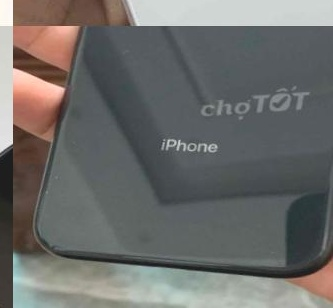scratch: (24, 165, 69, 198), (263, 242, 306, 268), (111, 44, 136, 59), (68, 136, 84, 151)
